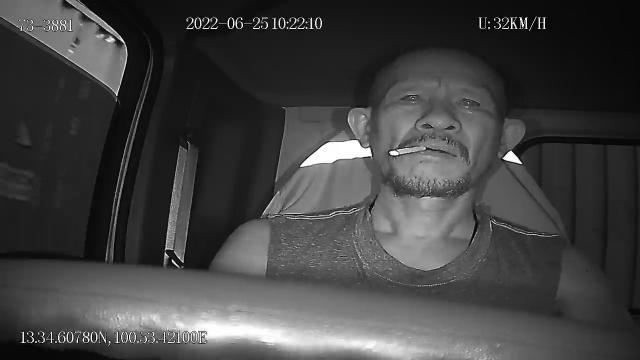SafeDriving: (391, 84, 431, 111), (449, 88, 488, 115)
Smoking: (387, 146, 425, 156)
